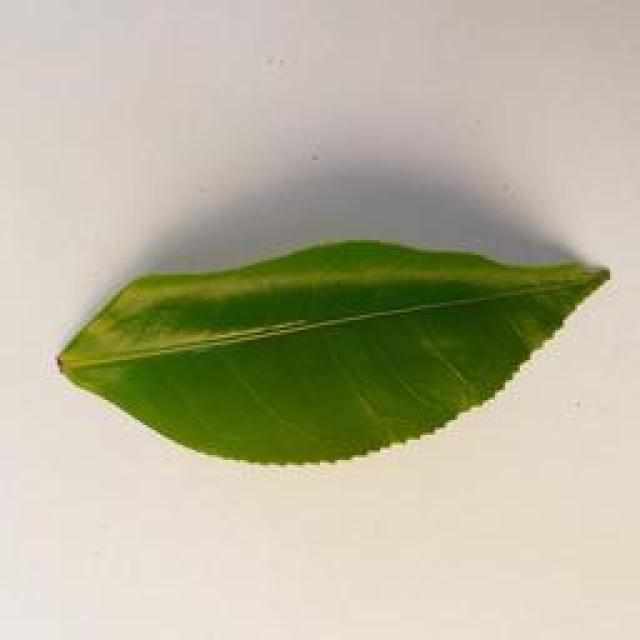Healthy: (56, 218, 614, 487)
